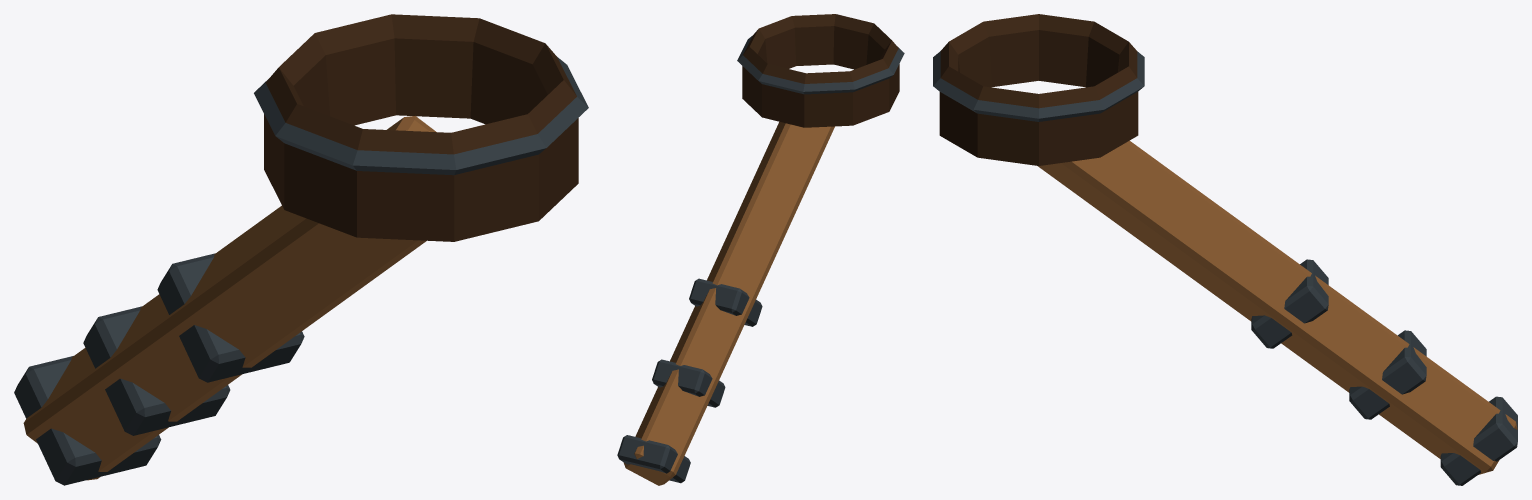
The model's file is ThrowArm.glb.
3 renders of one model, left to right at view 1: azimuth 30°, elevation 25°; view 2: azimuth 150°, elevation 25°; view 3: azimuth 270°, elevation 25°, orthographic. The views are drawn at different scales.
Parts seen in each view (by area): view 1: Sculpture; view 2: Sculpture; view 3: Sculpture.
Part boxes in pixels (x1,y1,x2,y2): Sculpture: (14, 14, 588, 485); Sculpture: (617, 14, 904, 485); Sculpture: (933, 14, 1517, 485).
Size of the model in its own units: 0.682 by 1.43 by 1.79.
